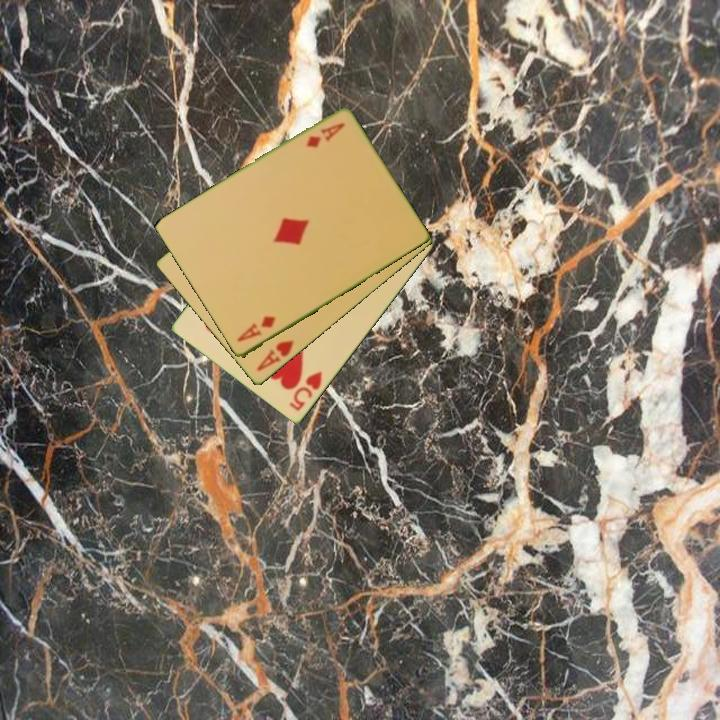5h: (286, 368, 325, 414)
Ad: (233, 313, 278, 345), (302, 120, 348, 151)
Ah: (253, 337, 297, 374)
